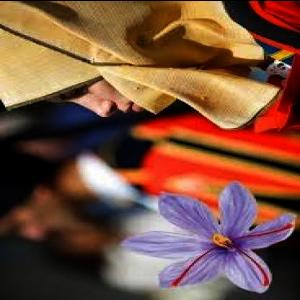Saffron: (118, 183, 294, 292)
